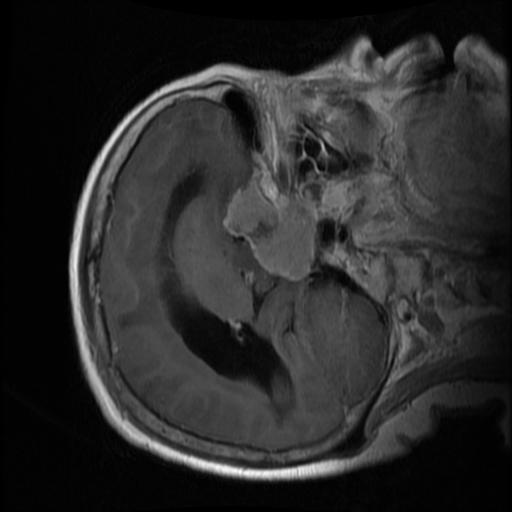meningioma: (225, 179, 317, 283)
